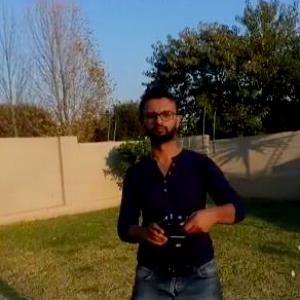follow: (112, 82, 251, 299)
